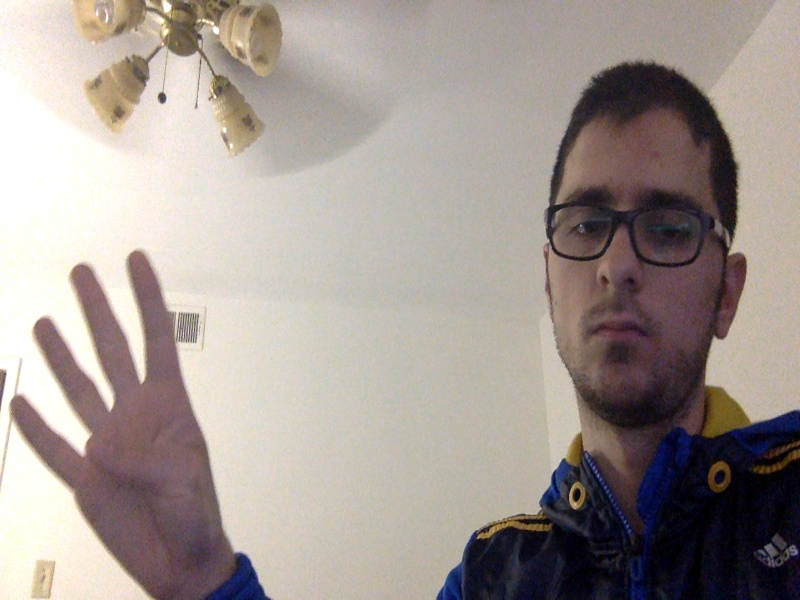4-hand: (10, 249, 227, 600)
